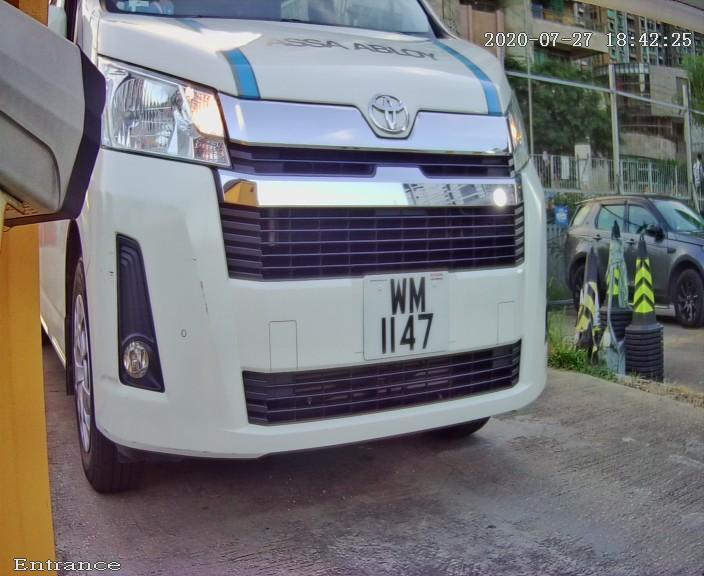privatecar: (54, 24, 610, 487)
